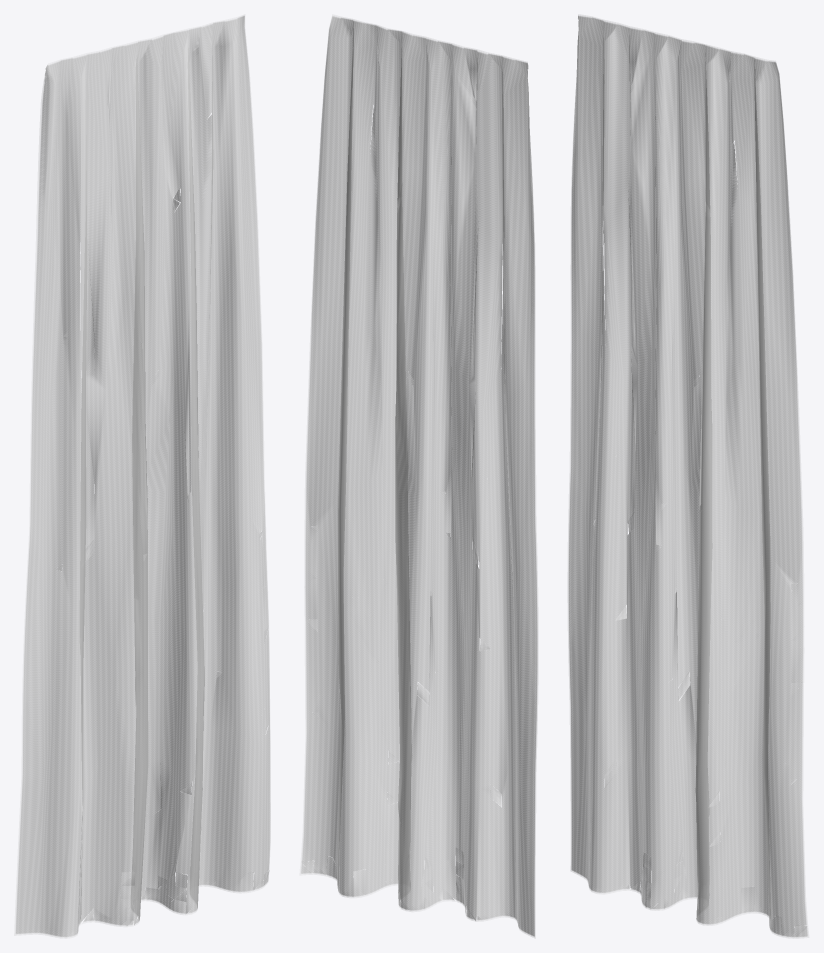
File: cortina_tul.glb
The picture shows the model from 3 angles, left to right: view 1: azimuth 30°, elevation 25°; view 2: azimuth 150°, elevation 25°; view 3: azimuth 330°, elevation 25°; orthographic projection.
Visible parts, largest first — view 1: Object_2; view 2: Object_2; view 3: Object_2.
Boxes of the visible parts, bbox=[...] form: Object_2: bbox=[14, 15, 270, 938]; Object_2: bbox=[300, 15, 537, 937]; Object_2: bbox=[568, 15, 808, 938].
Size of the model in its own units: 0.8553 by 2.9 by 0.1914.
Materials: 1 (1 with a texture image).
